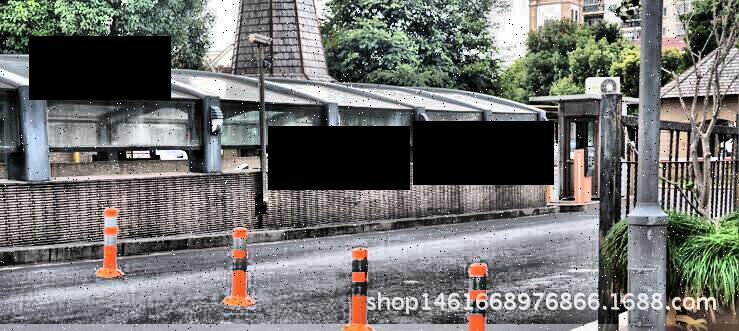bench: (220, 224, 253, 312), (93, 201, 127, 276)
